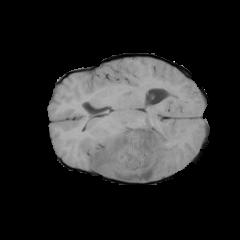glioma: (89, 119, 178, 181)
